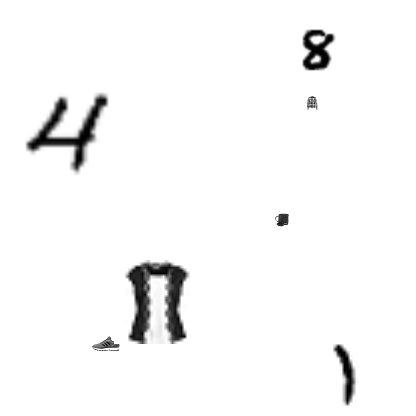1: (304, 330, 388, 414)
4: (11, 74, 123, 186)
8: (289, 22, 345, 78)
Bag: (275, 213, 289, 227)
Shirt: (305, 96, 319, 110)
Sneaker: (92, 330, 120, 358)
T-shirt/top: (114, 260, 198, 344)
